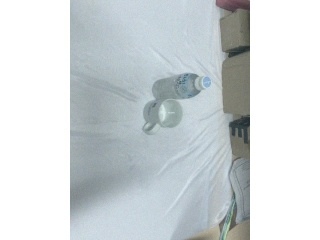bottle: (152, 73, 211, 100)
box: (222, 51, 250, 117), (219, 9, 250, 53), (229, 116, 250, 160)
cup: (143, 99, 183, 129)
